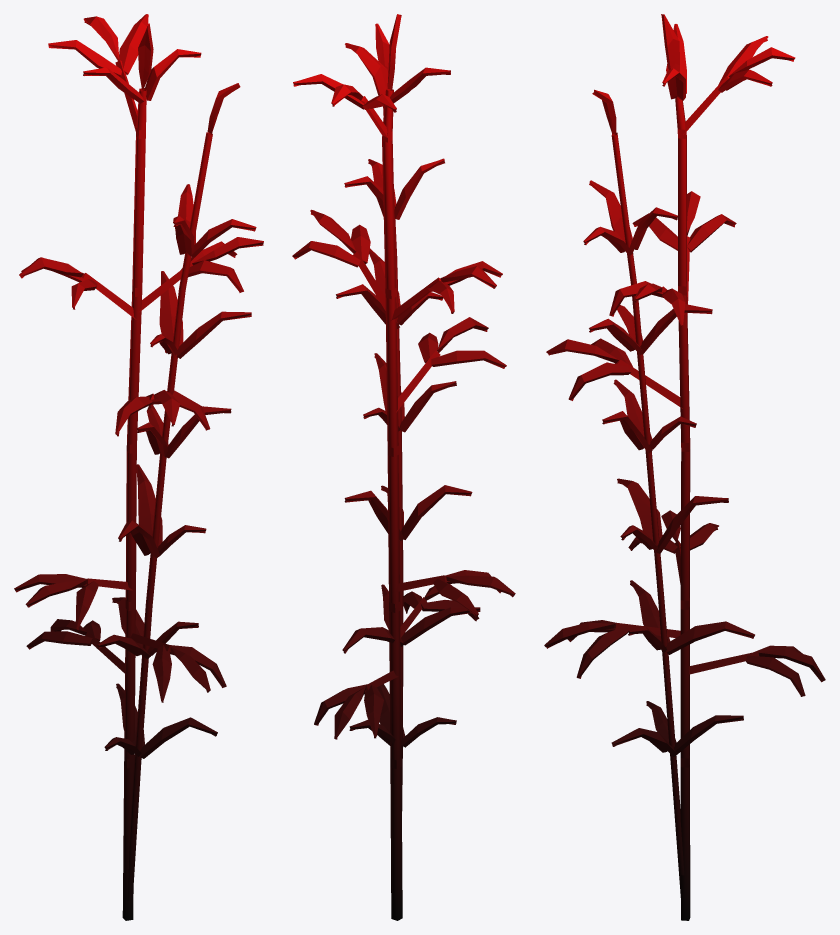
Rendered from TreeBamboo02.fbx.
3 renders of one model, left to right at view 1: azimuth 30°, elevation 25°; view 2: azimuth 150°, elevation 25°; view 3: azimuth 270°, elevation 25°, orthographic.
Visible parts, largest first — view 1: TreeBamboo02_LOD0; view 2: TreeBamboo02_LOD0; view 3: TreeBamboo02_LOD0.
Part boxes in pixels (bbox=[...]): TreeBamboo02_LOD0: bbox=[14, 14, 263, 920]; TreeBamboo02_LOD0: bbox=[292, 14, 515, 920]; TreeBamboo02_LOD0: bbox=[544, 14, 825, 920].
Size of what is drawn, in the model's own units: 104 by 402 by 113.
